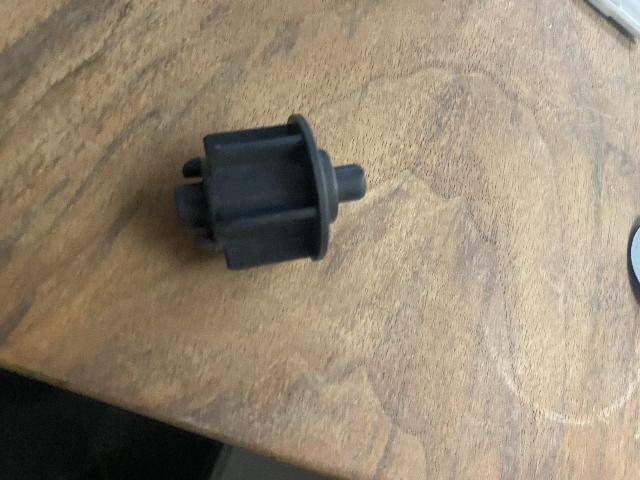Plastik: (170, 114, 371, 279)
